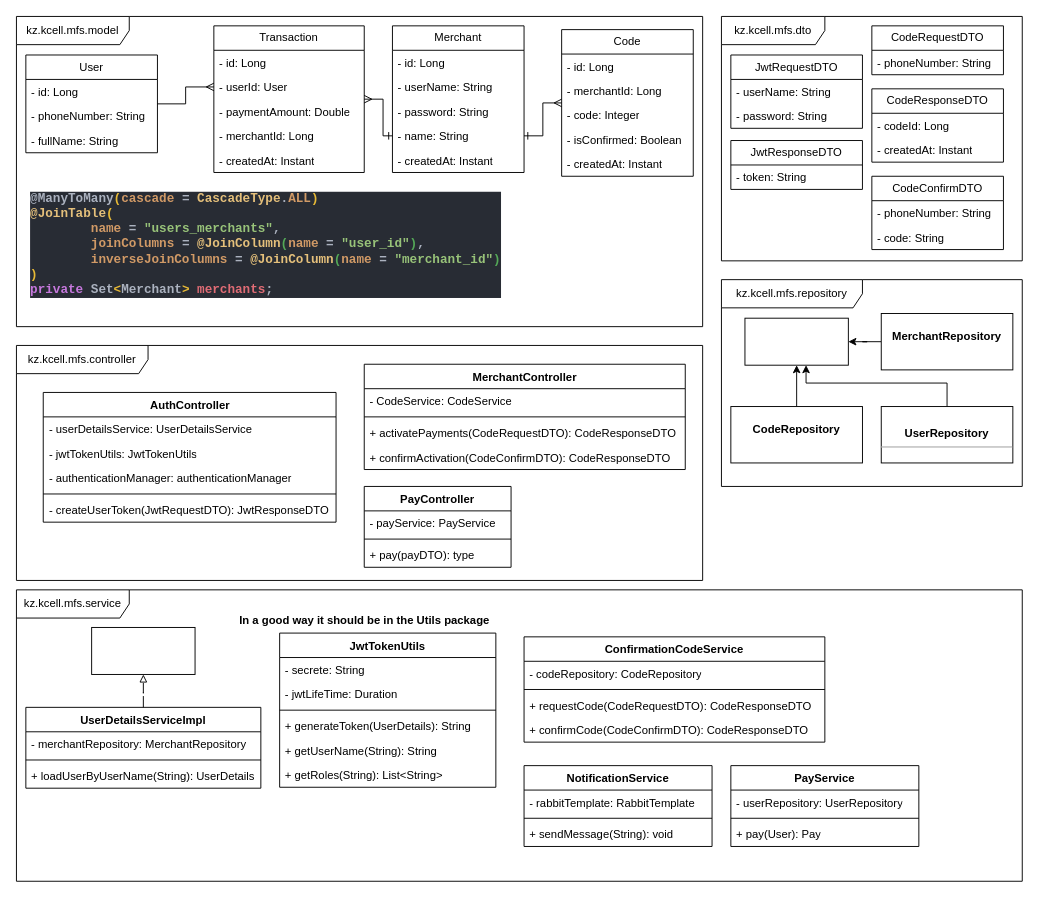
Image size: 1039x898. Some labels were removed from this diagram. The shapes that lost their labels are listed below. From the top down, each one's centre as x and y in pixels, then its label:
the point at 796,341: «interface» JpaRepository
the point at 143,650: «interface» UserDetails
